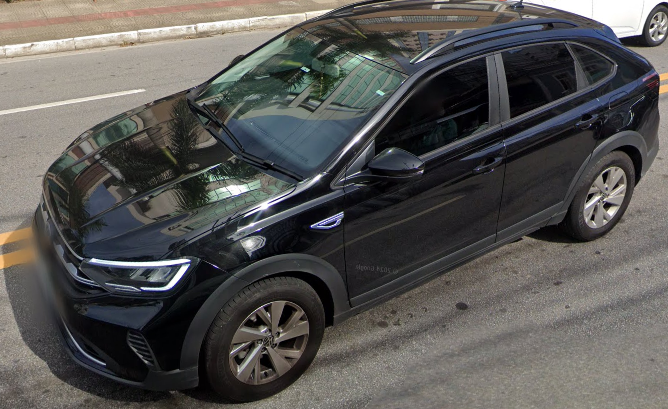car: (34, 4, 662, 401)
